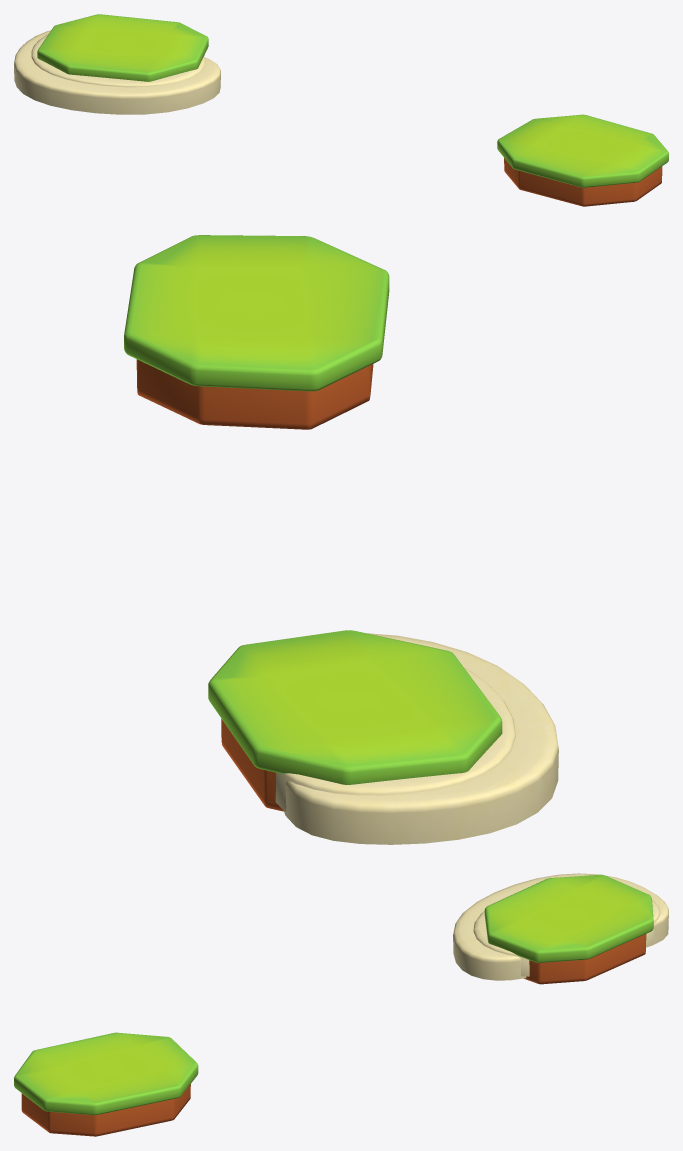
Rendered from Platform besar.fbx.
3 views of the same model, one above another, from view 1: azimuth 30°, elevation 25°; view 2: azimuth 150°, elevation 25°; view 3: azimuth 270°, elevation 25° (orthographic). The views are drawn at different scales.
Visible parts, largest first — view 1: Cube.017, Cube.016, pasirpantai, Cube.903; view 2: Cube.017, Cube.016, pasirpantai, Cube.903, Cube.902; view 3: Cube.017, Cube.016, pasirpantai, Cube.903, Cube.902.
Part boxes in pixels (x1=…): Cube.017: x1=497, y1=114, x2=668, y2=187; Cube.016: x1=37, y1=14, x2=208, y2=81; pasirpantai: x1=14, y1=30, x2=220, y2=114; Cube.903: x1=504, y1=158, x2=662, y2=206; Cube.017: x1=124, y1=235, x2=389, y2=391; Cube.016: x1=208, y1=630, x2=502, y2=784; pasirpantai: x1=275, y1=633, x2=558, y2=844; Cube.903: x1=136, y1=359, x2=373, y2=429; Cube.902: x1=221, y1=719, x2=283, y2=811; Cube.017: x1=14, y1=1032, x2=198, y2=1115; Cube.016: x1=484, y1=874, x2=653, y2=962; pasirpantai: x1=453, y1=873, x2=668, y2=980; Cube.903: x1=21, y1=1084, x2=190, y2=1136; Cube.902: x1=524, y1=934, x2=646, y2=984.
Bounding box in the file's own units: 43.14 × 4.56 × 52.23.
